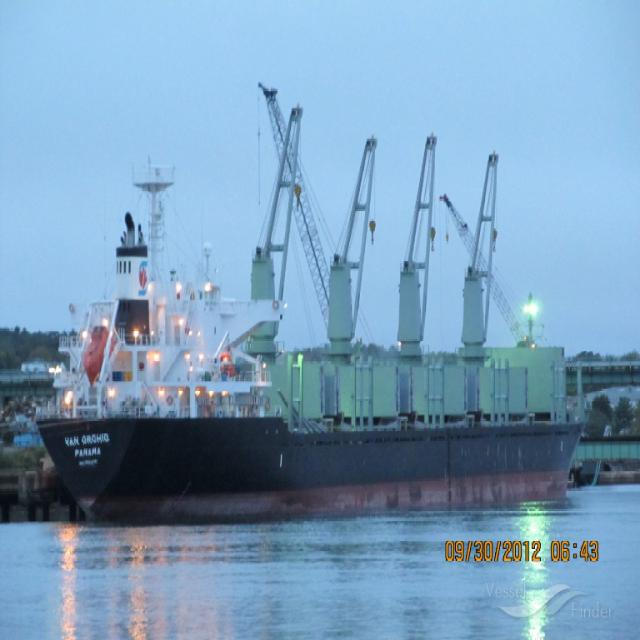OCR: (60, 433, 114, 473)
